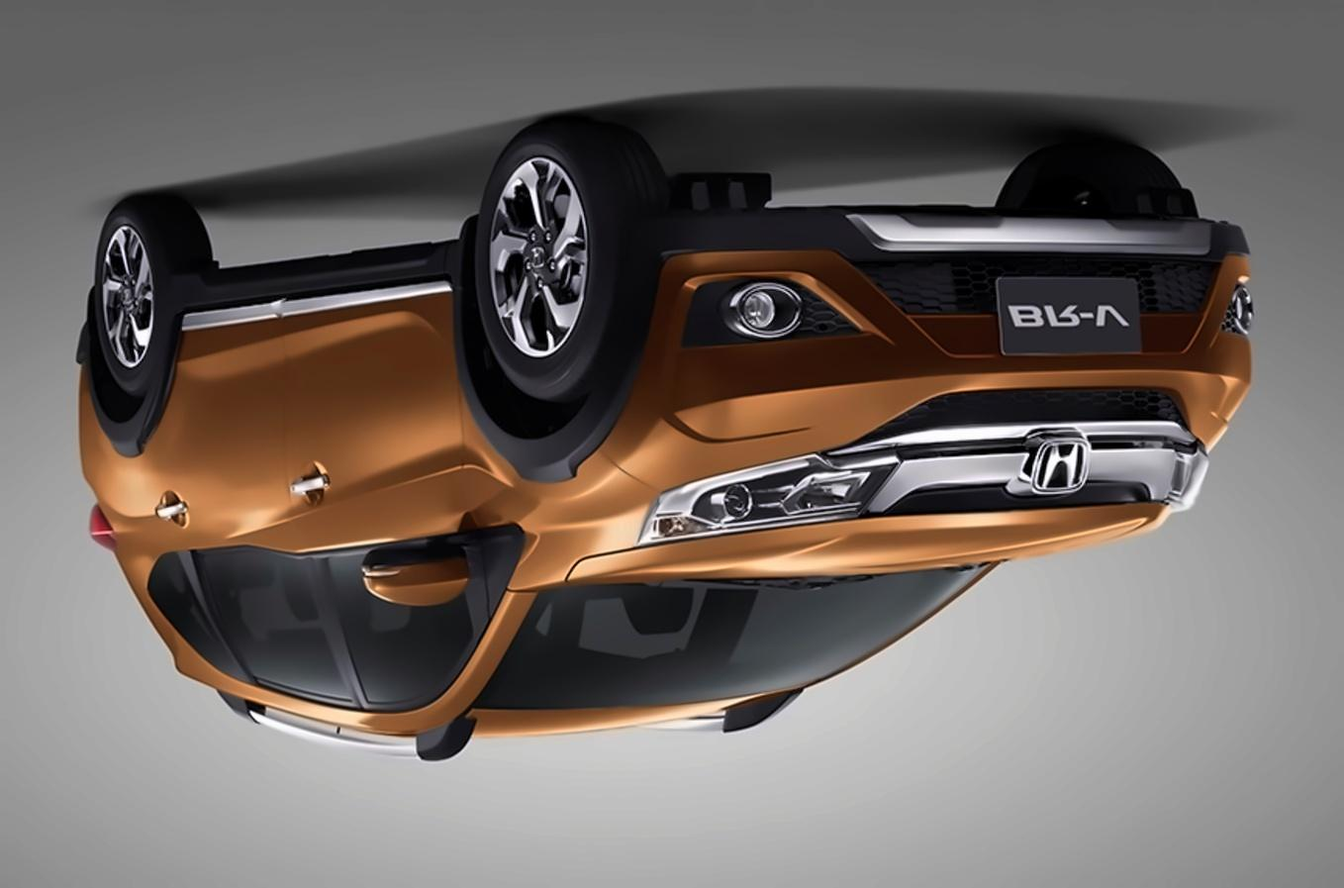Car hood: (559, 499, 1177, 587)
Fender - -F-L-: (447, 299, 659, 602)
Fender - -R-L-: (76, 335, 198, 632)
Front bumper: (597, 173, 1261, 493)
Headlight - -L-: (634, 447, 894, 543)
Passenger-s door - -F-L-: (272, 229, 528, 758)
Passenger-s door - -R-L-: (147, 256, 375, 760)
Side bumper - -L-: (176, 218, 460, 391)
Side mirror - -L-: (358, 533, 475, 612)
